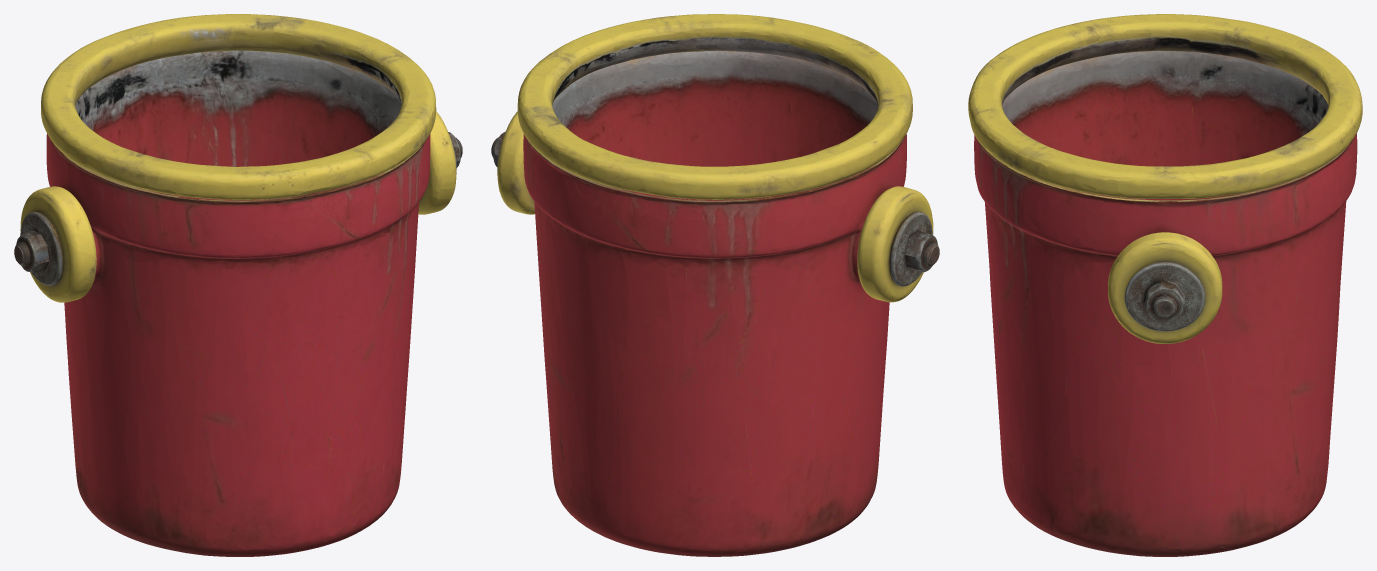
The model's file is secchio_gigante.glb.
3 renders of one model, left to right at view 1: azimuth 30°, elevation 25°; view 2: azimuth 150°, elevation 25°; view 3: azimuth 270°, elevation 25°, orthographic.
Parts seen in each view (by area): view 1: Mesh_0; view 2: Mesh_0; view 3: Mesh_0.
Part boxes in pixels (left/top/right/bottom): Mesh_0: left=14, top=14, right=462, bottom=556; Mesh_0: left=491, top=14, right=939, bottom=556; Mesh_0: left=968, top=14, right=1362, bottom=556.
Bounding box in the file's own units: 1.9 × 1.66 × 1.48.
1 material, 1 textured.
